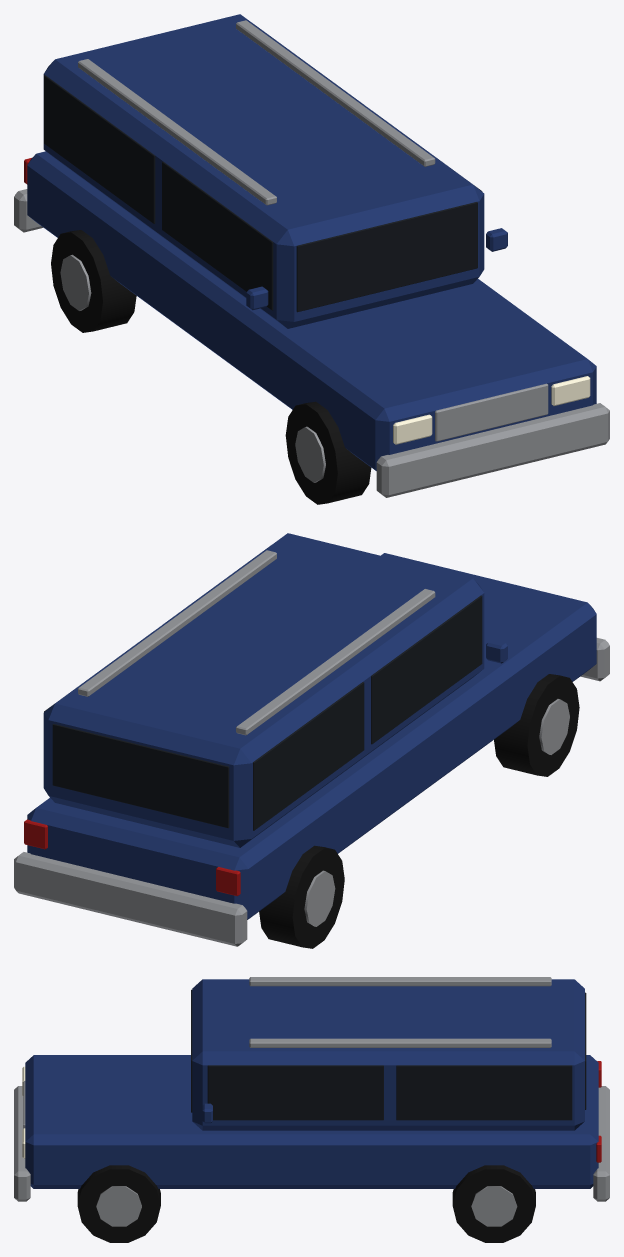
Rendered from suv_blue.dae.
3 views of the same model, one above another, from view 1: azimuth 30°, elevation 25°; view 2: azimuth 150°, elevation 25°; view 3: azimuth 270°, elevation 25° (orthographic). The views are drawn at different scales.
Visible parts, largest first — view 1: marker; view 2: marker; view 3: marker.
Boxes of the visible parts, x1,y1,x2,y2 form: marker: [14, 14, 609, 504]; marker: [14, 533, 609, 948]; marker: [14, 977, 609, 1242].
Bounding box in the file's own units: 2.28 × 5.72 × 1.97.
Materials: 1 (1 with a texture image).
